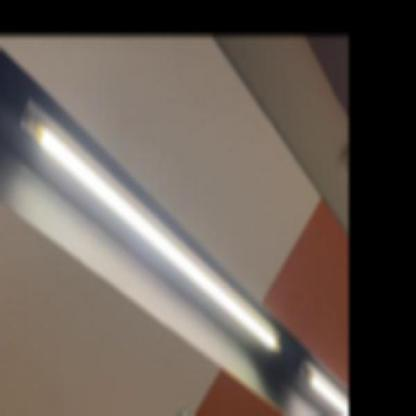light_on: (13, 98, 288, 371), (298, 352, 350, 415)
